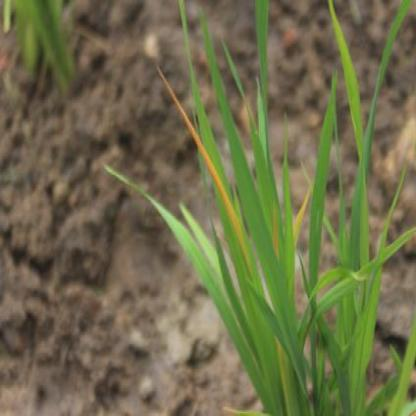Tungro: (161, 71, 302, 363)
